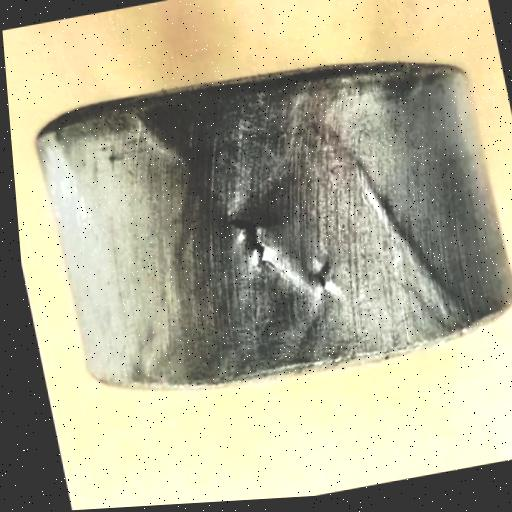crack: (221, 202, 276, 271), (312, 269, 332, 294)
